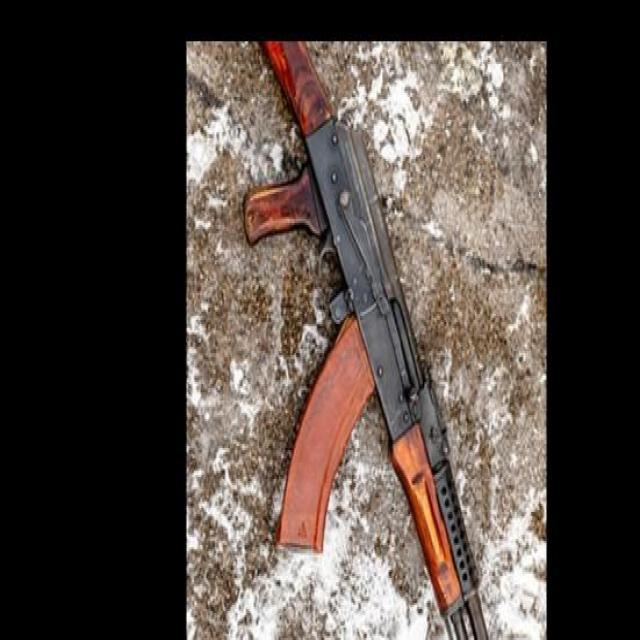weapon: (242, 41, 488, 640)
